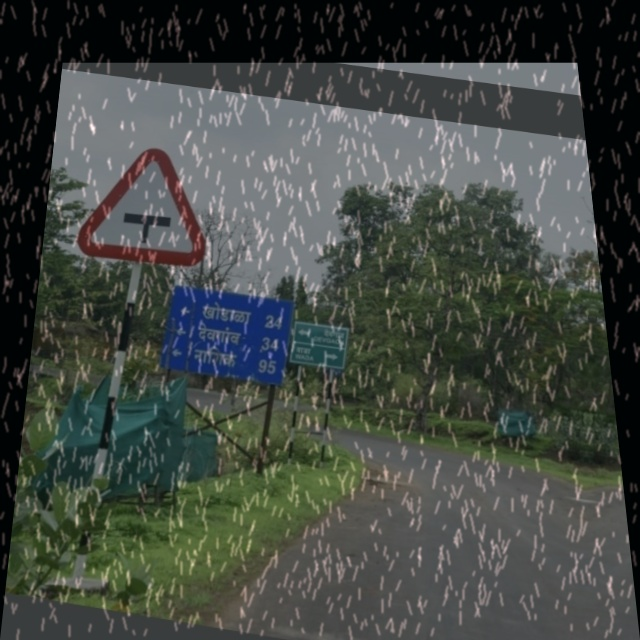T_Intersection: (71, 134, 231, 278)
